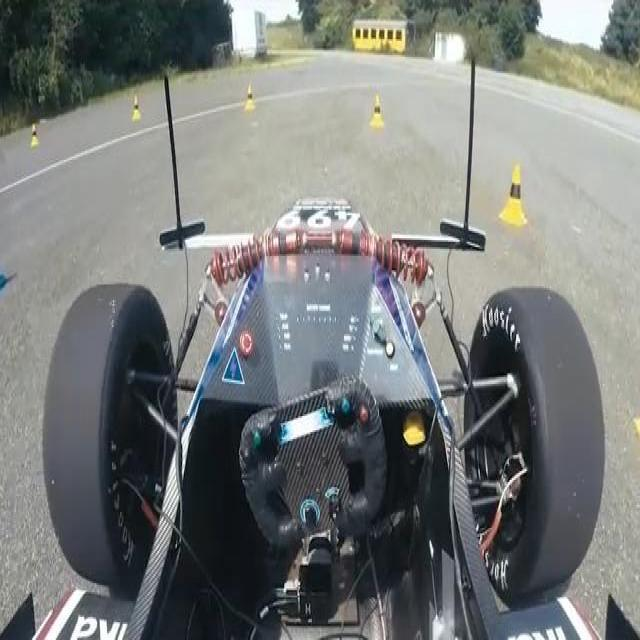blue_cone: (0, 249, 12, 298)
yellow_cone: (498, 156, 528, 230), (369, 92, 386, 131), (244, 81, 256, 112), (131, 96, 142, 123)
